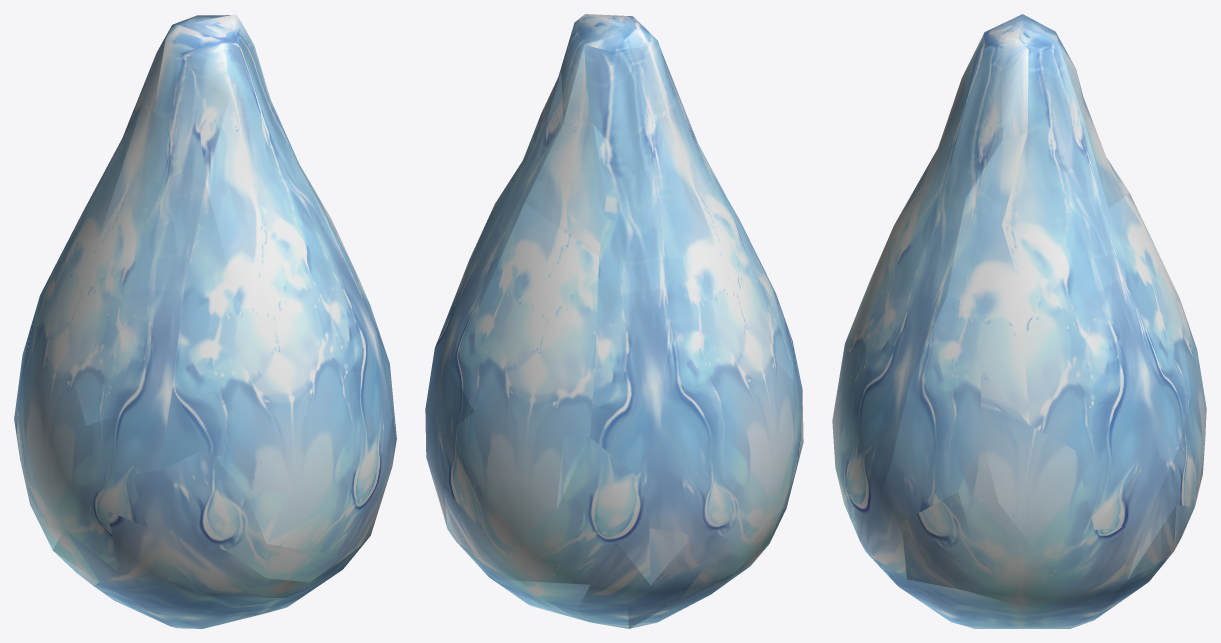
File: Saliva_Top1.fbx
The picture shows the model from 3 angles, left to right: view 1: azimuth 30°, elevation 25°; view 2: azimuth 150°, elevation 25°; view 3: azimuth 270°, elevation 25°; orthographic projection.
Visible parts, largest first — view 1: temp; view 2: temp; view 3: temp.
Part boxes in pixels (left/top/right/bottom): temp: left=14, top=14, right=396, bottom=628; temp: left=425, top=14, right=803, bottom=628; temp: left=832, top=14, right=1206, bottom=628.
Bounding box in the file's own units: 1.12 × 1.9 × 1.12.
1 material, 1 textured.
